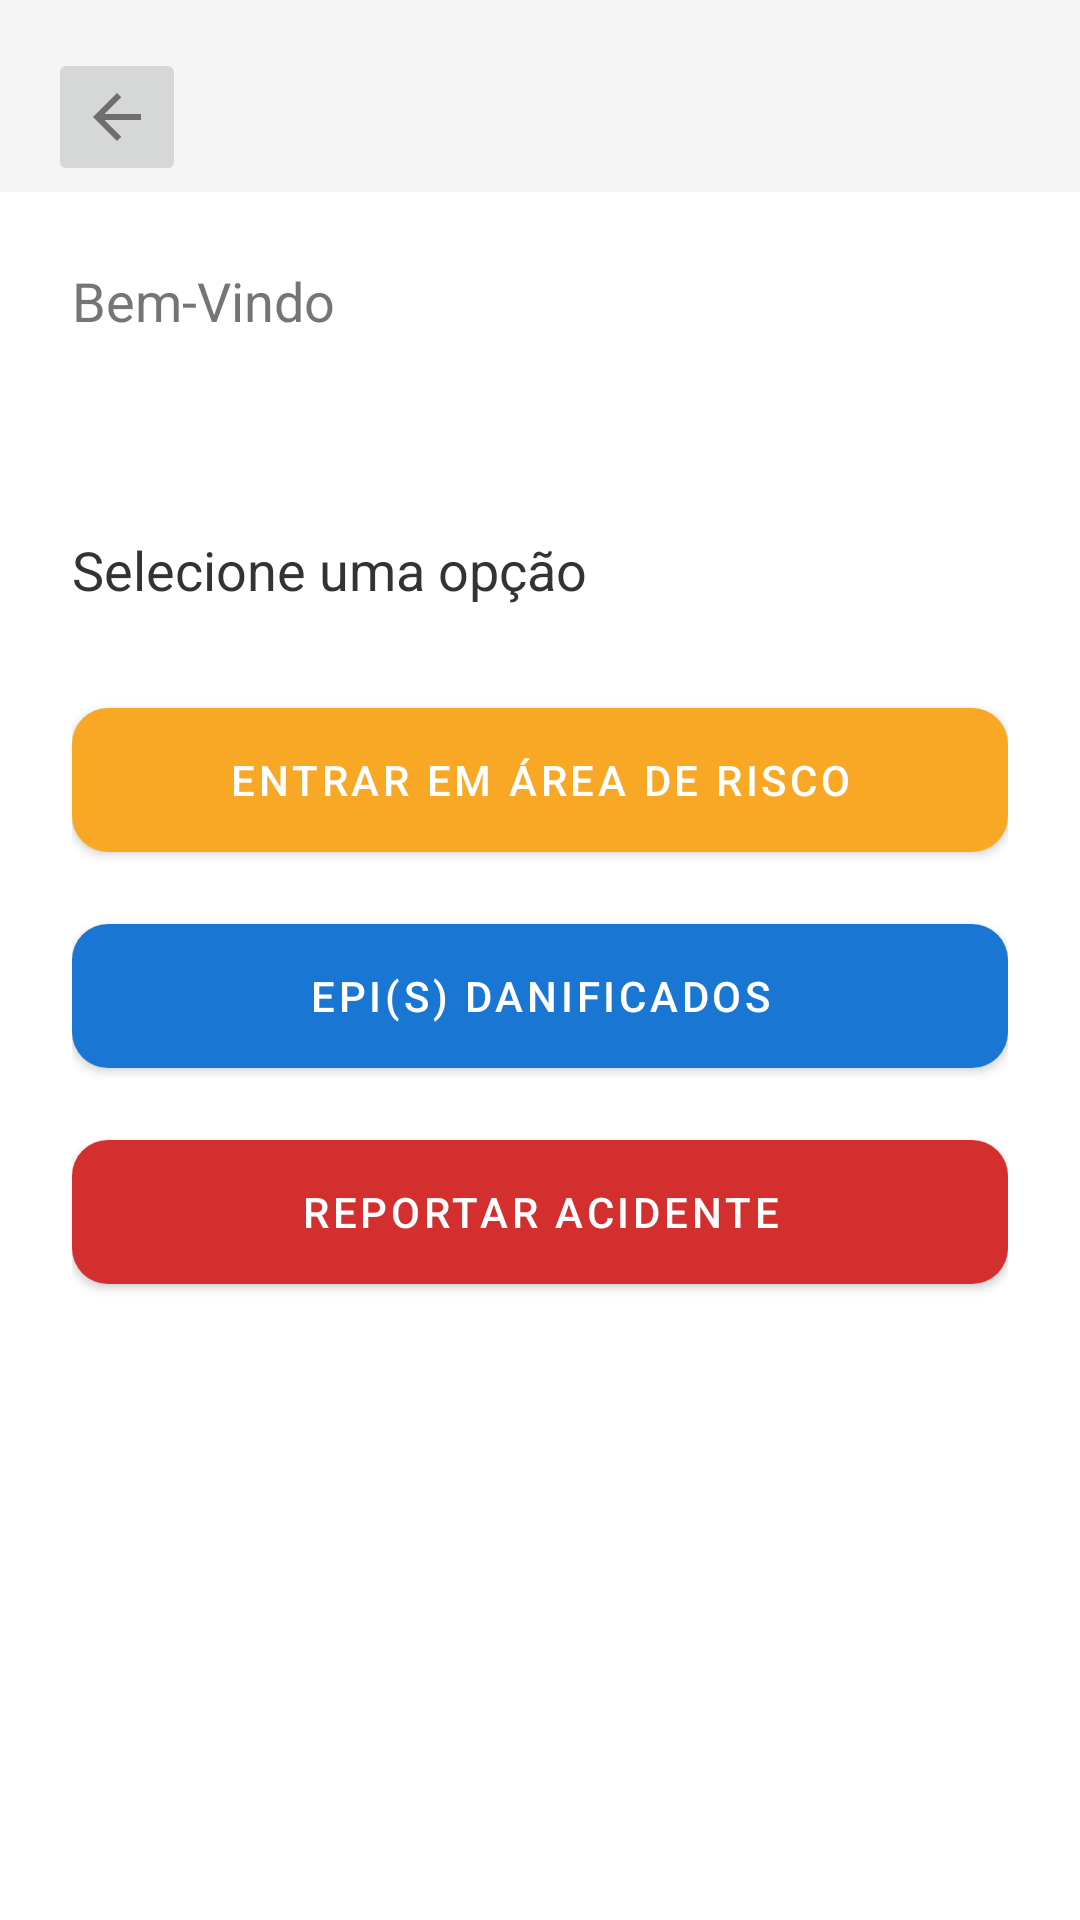

Icon click points for this 1080 x 1920 phone screenshot, format point (x, y):
Voltar: point (117, 117)
